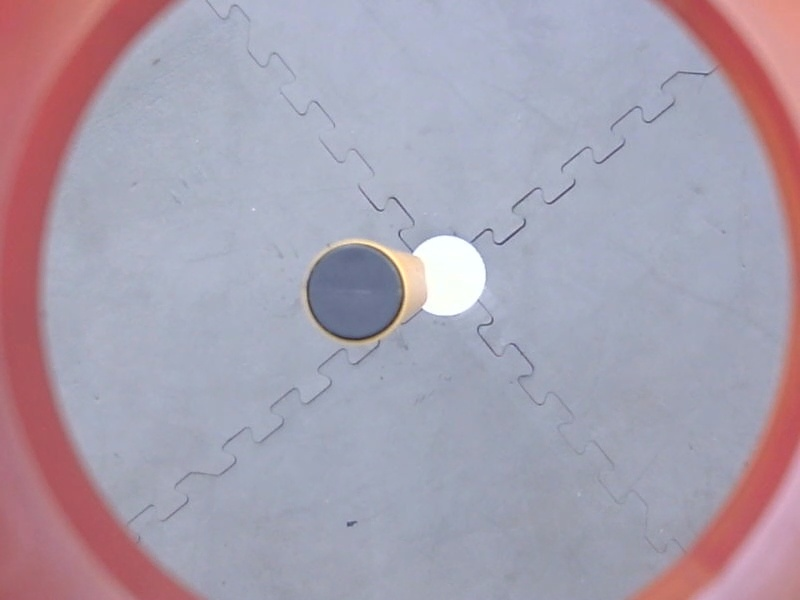tip: (296, 236, 416, 351)
